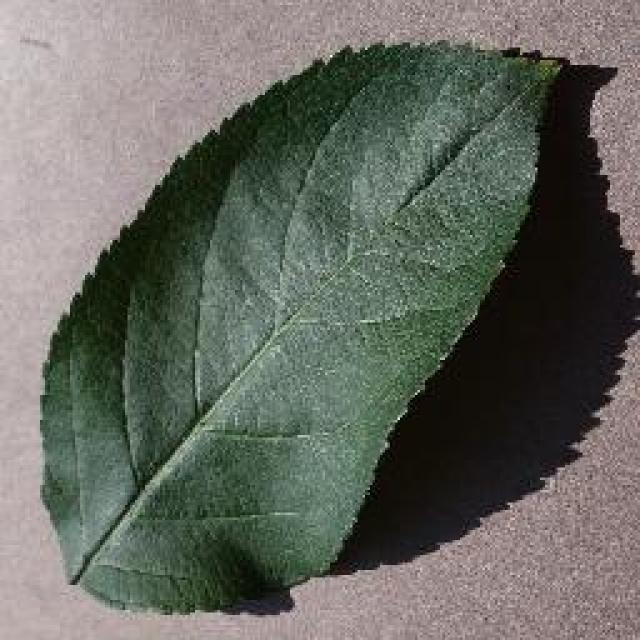apple healthy: (35, 35, 570, 615)
